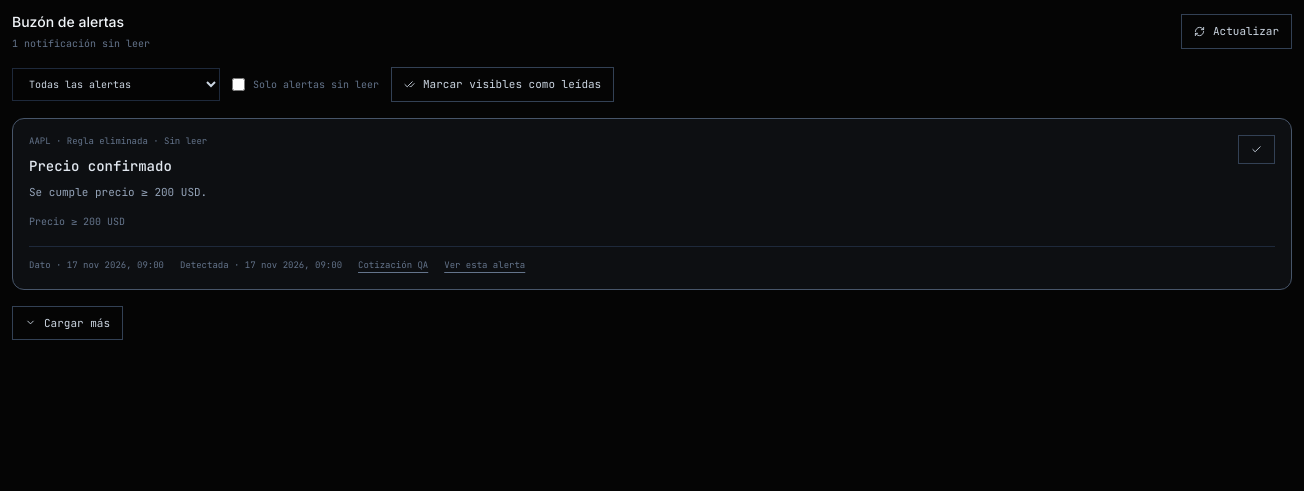
filters by deleted alert ID and unread state, and paginates by the server cursor while deduplicating IDs
Expected: the heading "Precio confirmado" is shown, [29,157,172,175]
Select "Regla eliminada · eliminada" in the dropdown named "Filtrar por alerta" at (116, 84), box [12,68,220,101]
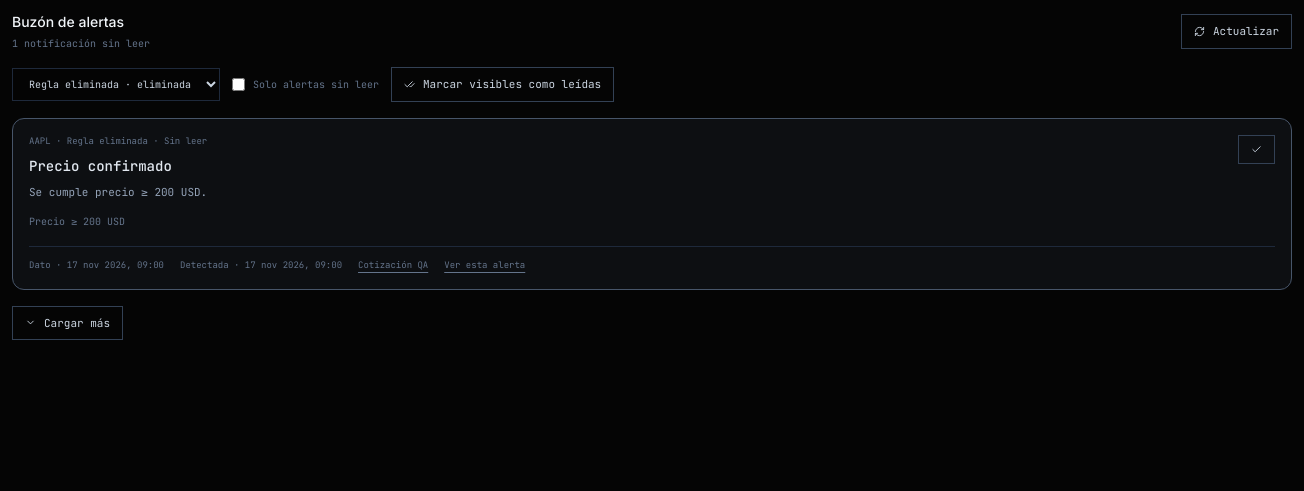
Click the checkbox labelled "Solo alertas sin leer" at (238, 84), box [232,78,245,91]
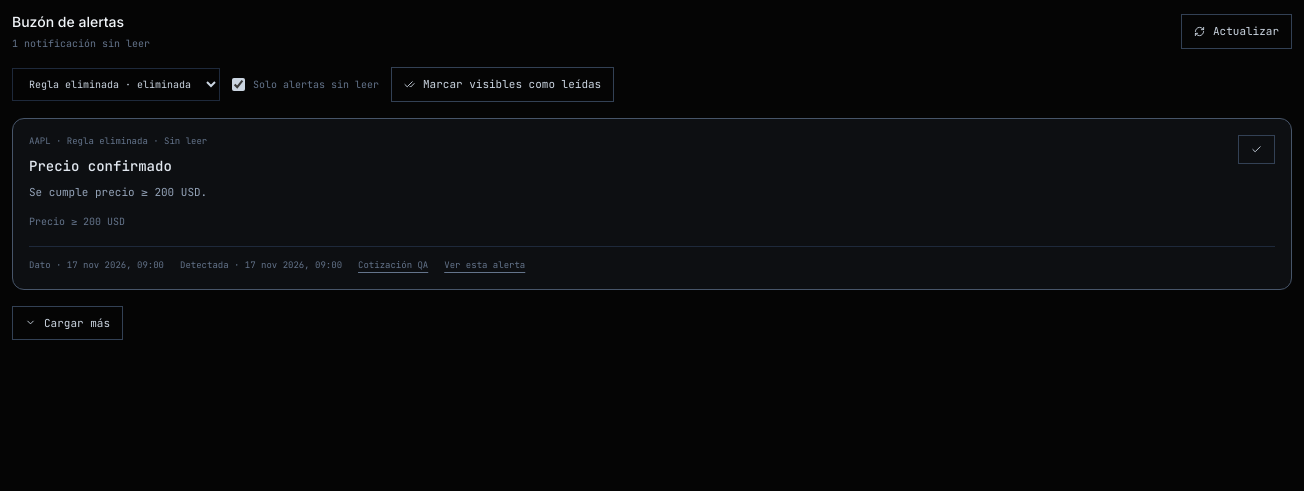
Click the button "Cargar más" at (68, 323), box [12,306,123,340]
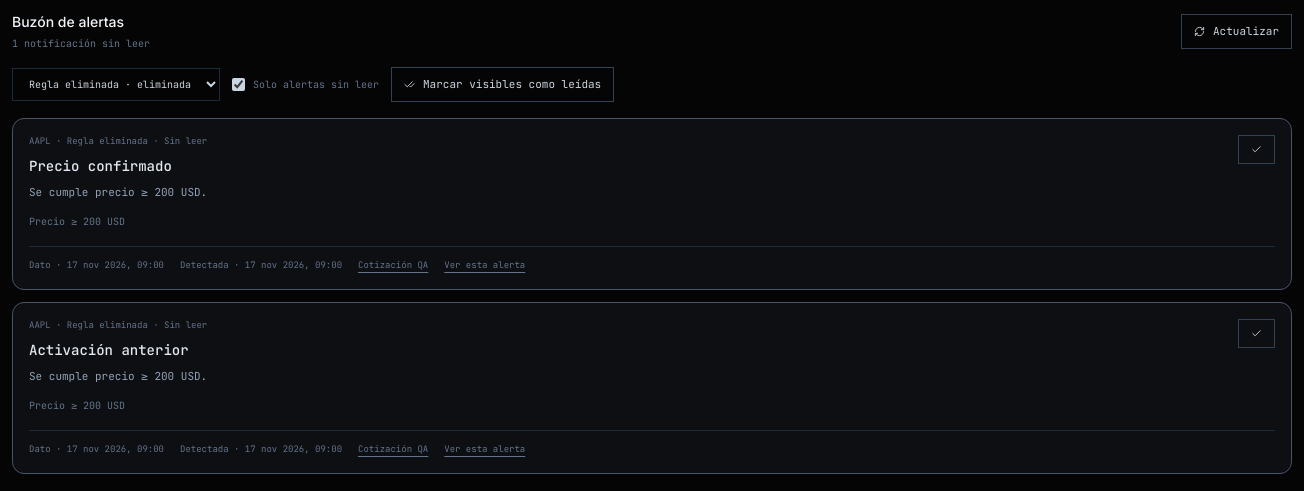
Expected: the number of headings "Precio confirmado" is 1, [29,157,172,175]
Result: the heading "Activación anterior" is shown at [29,340,207,360]
